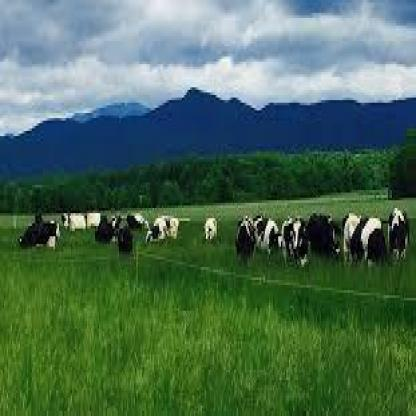cow: (344, 214, 382, 263), (280, 217, 310, 276), (254, 218, 282, 262), (387, 209, 409, 263), (235, 217, 257, 268), (19, 222, 60, 248), (142, 216, 180, 244), (113, 226, 133, 257), (203, 217, 217, 243), (68, 213, 86, 229), (87, 212, 100, 227)
